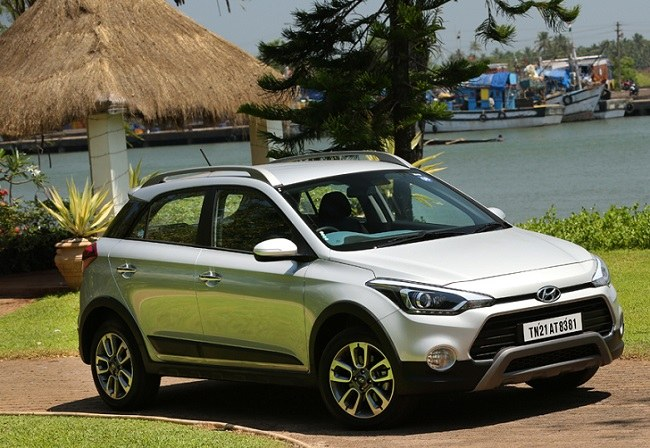car: (74, 145, 632, 433)
